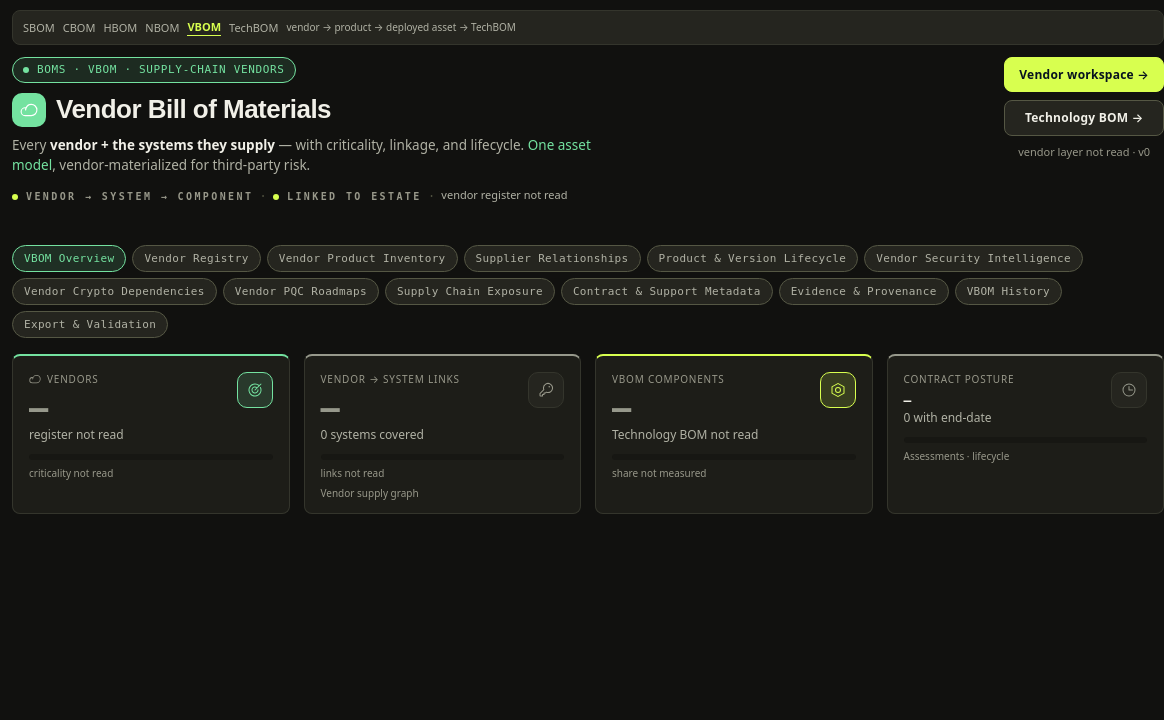
Test: VBOM workspace › shows the honest UNKNOWN where a product's support was never collected
Click the tab "Vendor Product Inventory": (362, 258) top-left (267, 245), bottom-right (458, 272)
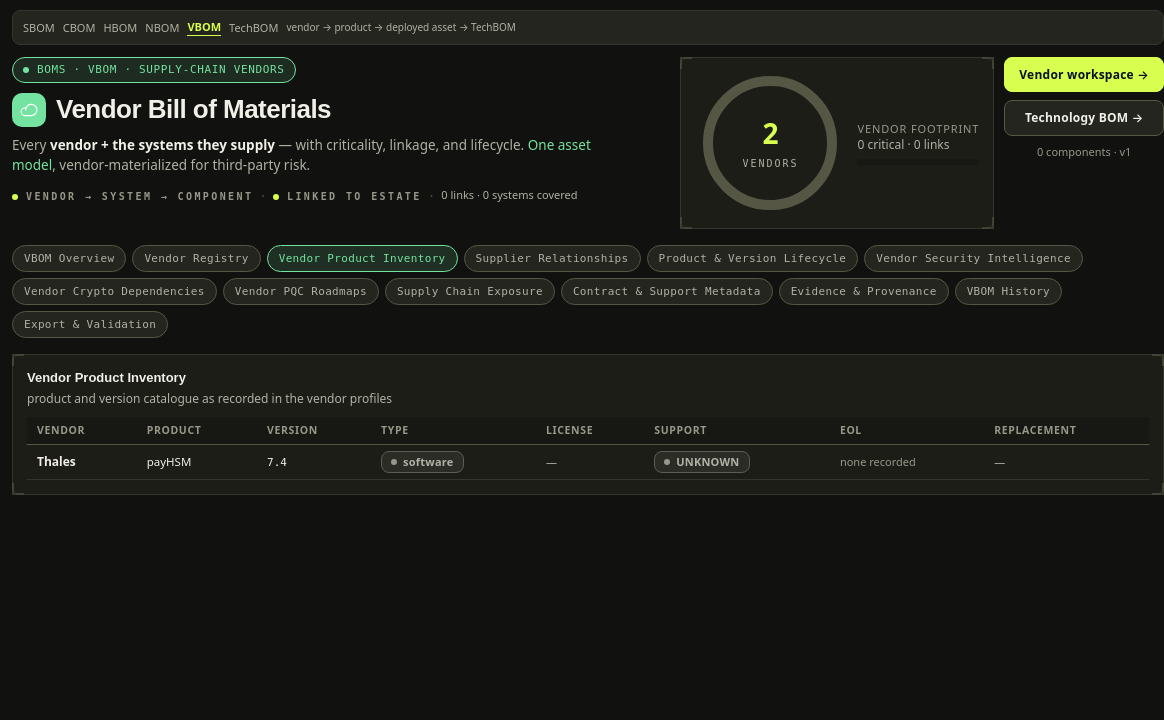
Check: the text "payHSM" is shown, box top-left (147, 454), bottom-right (191, 469)
Check: the text "UNKNOWN" is shown, box top-left (654, 451), bottom-right (750, 473)
